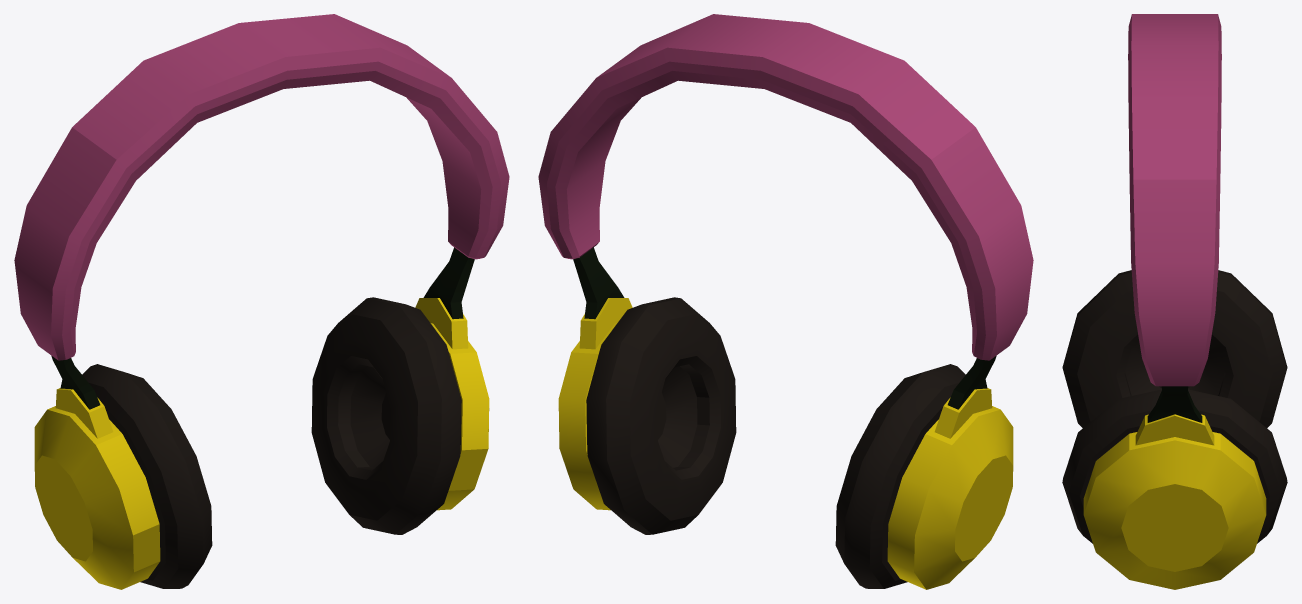
The model's file is Headphones.FBX.
3 views of the same model, side by side, from view 1: azimuth 30°, elevation 25°; view 2: azimuth 150°, elevation 25°; view 3: azimuth 270°, elevation 25° (orthographic). The views are drawn at different scales.
Parts seen in each view (by area): view 1: Headphones; view 2: Headphones; view 3: Headphones.
Part boxes in pixels (<box>): Headphones: <box>14,14,509,589</box>; Headphones: <box>538,14,1033,589</box>; Headphones: <box>1062,14,1287,589</box>.
Size of the model in its own units: 951 by 434 by 1023.
